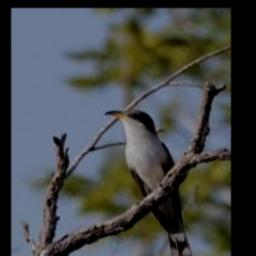Cuckoo: (105, 110, 195, 256)
